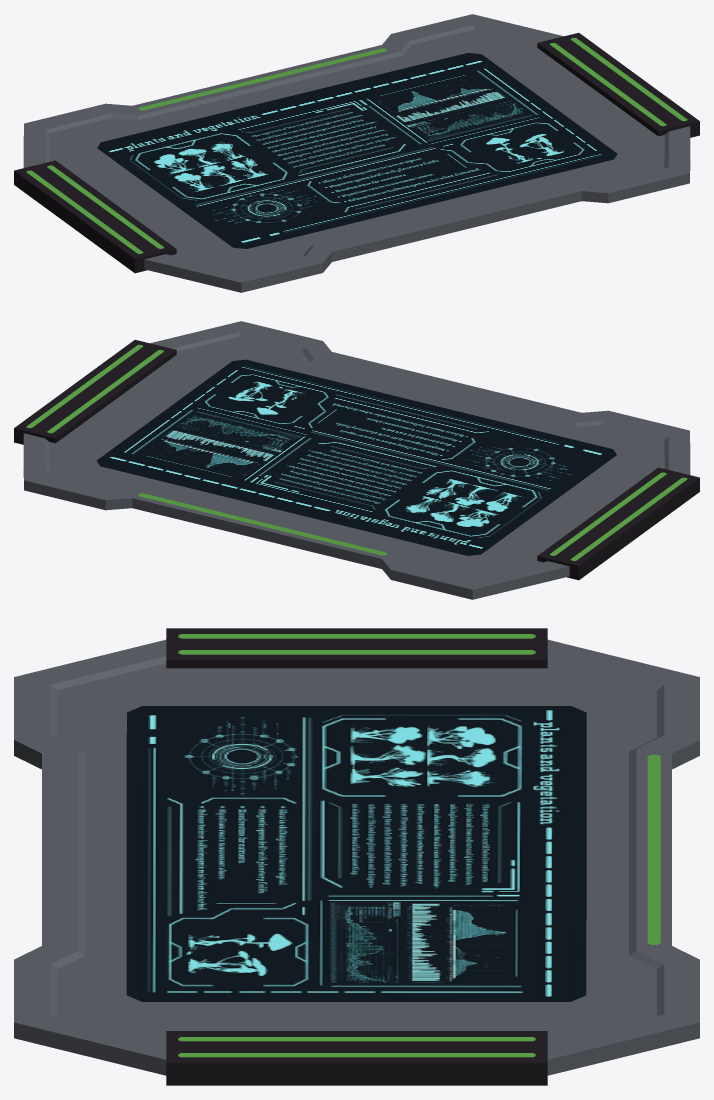
Rendered from SM_Props_Device_10.fbx.
The picture shows the model from 3 angles, top to bottom: view 1: azimuth 30°, elevation 25°; view 2: azimuth 150°, elevation 25°; view 3: azimuth 270°, elevation 25°; orthographic projection. The views are drawn at different scales.
Visible parts, largest first — view 1: SM_Props_Device_10; view 2: SM_Props_Device_10; view 3: SM_Props_Device_10.
Boxes of the visible parts, left/top/right/bottom form: SM_Props_Device_10: left=14, top=14, right=699, bottom=292; SM_Props_Device_10: left=14, top=321, right=699, bottom=599; SM_Props_Device_10: left=14, top=628, right=699, bottom=1085.
Size of the model in its own units: 0.75 by 0.0181 by 0.5.
